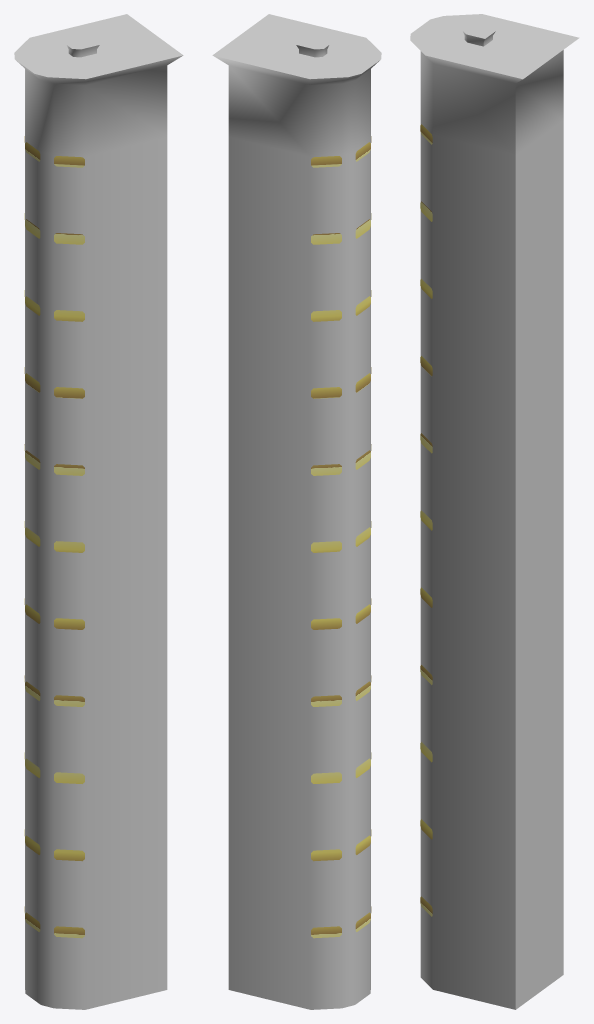
File: fondo_edificioA.fbx
3 views of the same model, side by side, from view 1: azimuth 30°, elevation 25°; view 2: azimuth 150°, elevation 25°; view 3: azimuth 330°, elevation 25° (orthographic).
Visible parts, largest first — view 1: edificioA; view 2: edificioA; view 3: edificioA.
Part boxes in pixels (<box>): edificioA: <box>14,14,183,1009</box>; edificioA: <box>212,14,381,1009</box>; edificioA: <box>410,14,579,1009</box>.
Size of the model in its own units: 473 by 3265 by 355.
